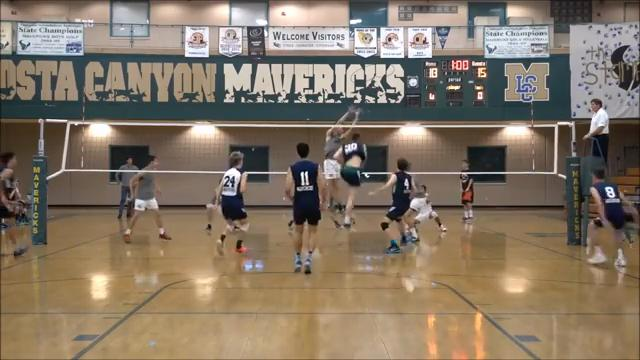Attack: (328, 127, 370, 237)
Block: (314, 101, 362, 221)
Player: (285, 143, 324, 273), (587, 169, 638, 265), (369, 158, 415, 253), (124, 155, 171, 242), (214, 151, 248, 254), (0, 152, 27, 256), (404, 184, 446, 240), (206, 193, 216, 232)
